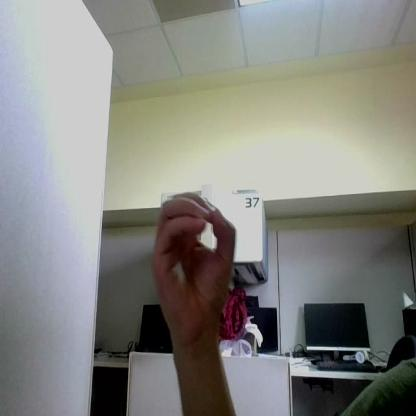O: (150, 192, 235, 338)
